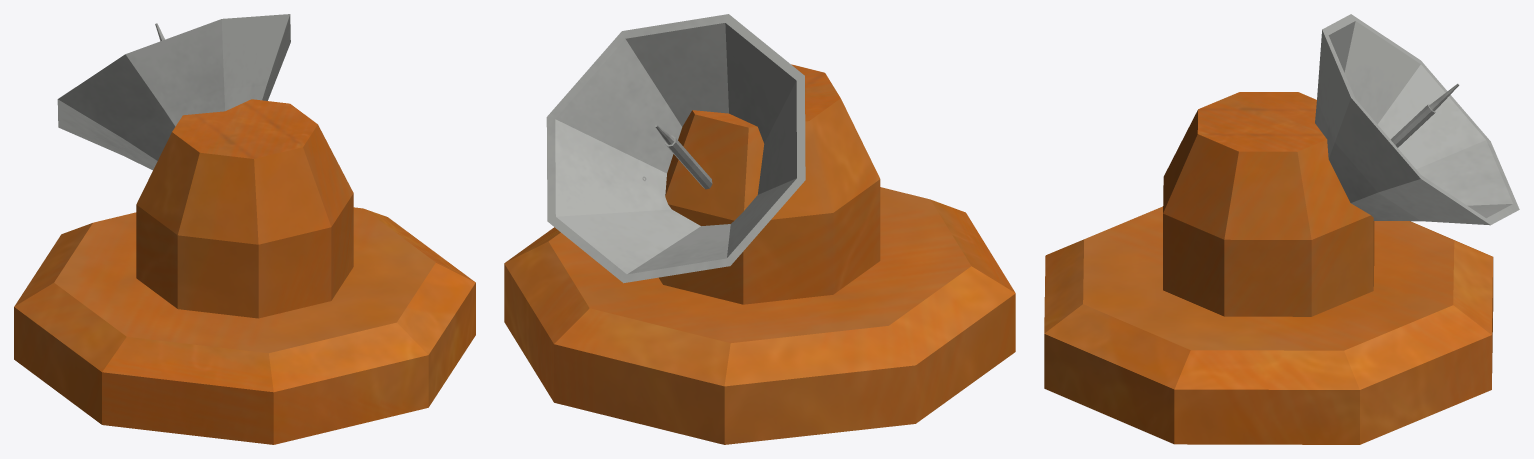
Rendered from TorreRadar1.fbx.
3 renders of one model, left to right at view 1: azimuth 30°, elevation 25°; view 2: azimuth 150°, elevation 25°; view 3: azimuth 270°, elevation 25°, orthographic. The views are drawn at different scales.
Parts seen in each view (by area): view 1: Base, Torre; view 2: Base, Torre; view 3: Base, Torre.
Boxes of the visible parts, box(x1,y1,x2,y2) form: Base: box(14, 99, 475, 444); Torre: box(57, 14, 290, 170); Base: box(504, 64, 1015, 444); Torre: box(546, 14, 805, 283); Base: box(1044, 92, 1493, 444); Torre: box(1315, 14, 1519, 225).
Bounding box in the file's own units: 235 × 186 × 249.
